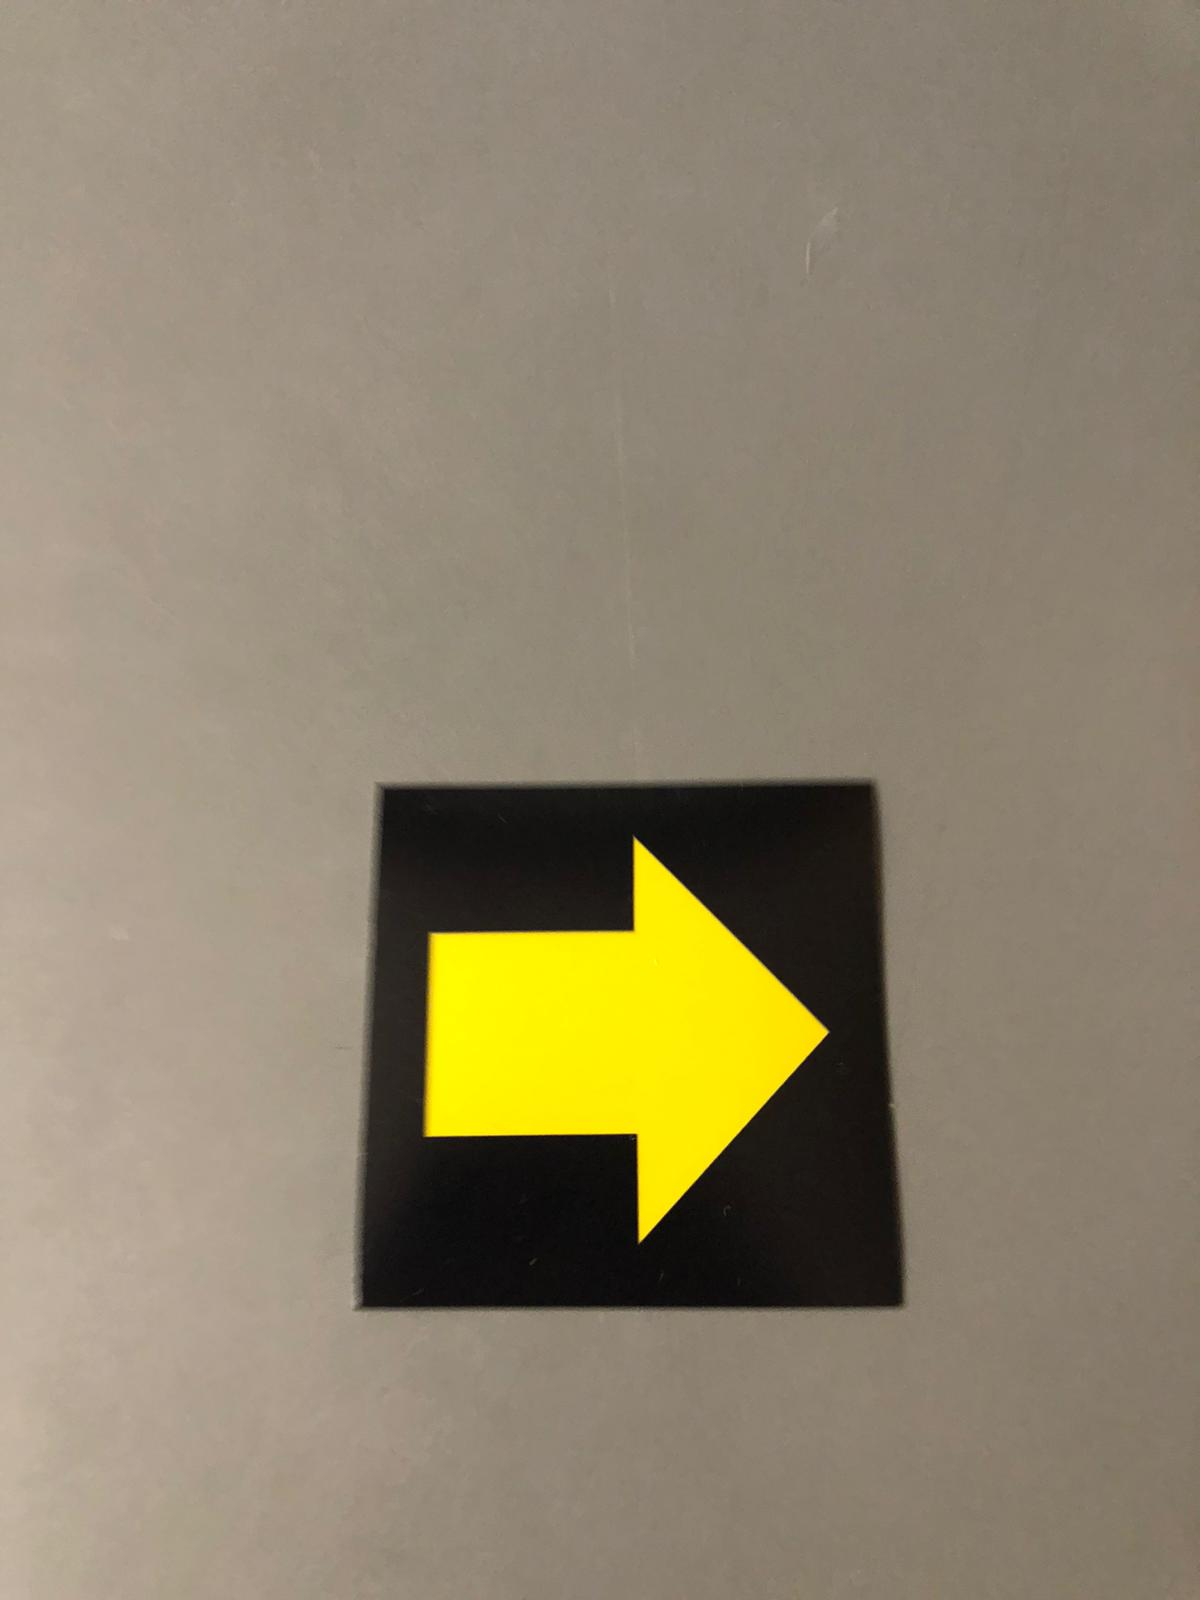Right Arrow: (383, 801, 890, 1298)
